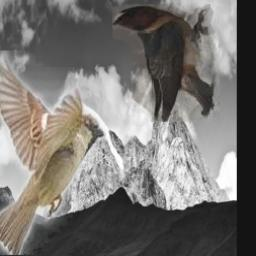Sparrow: (0, 51, 106, 255)
Swallow: (112, 4, 220, 122)
